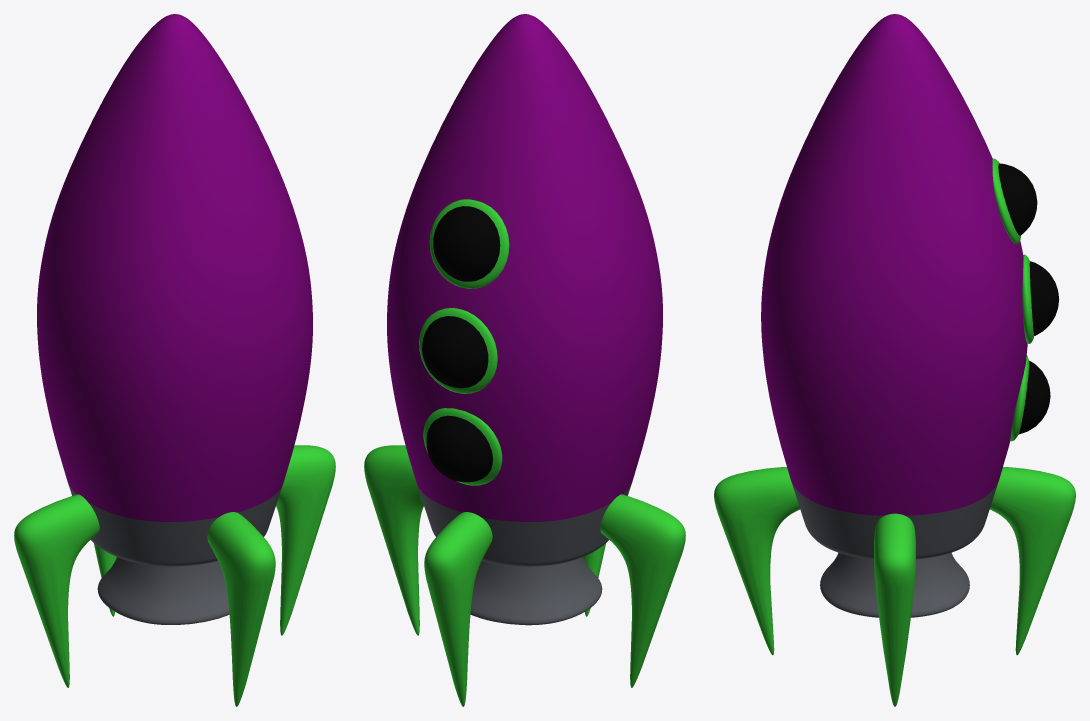
Rendered from gamev2rocketV3 2.fbx.
3 renders of one model, left to right at view 1: azimuth 30°, elevation 25°; view 2: azimuth 150°, elevation 25°; view 3: azimuth 270°, elevation 25°, orthographic.
Visible parts, largest first — view 1: Body, Legs; view 2: Body, Legs, Windows, Window Trim; view 3: Body, Legs, Windows, Window Trim.
Boxes of the visible parts, x1=… form: Body: x1=37, y1=14, x2=312, y2=624; Legs: x1=14, y1=445, x2=335, y2=706; Body: x1=387, y1=14, x2=662, y2=625; Legs: x1=364, y1=445, x2=685, y2=706; Windows: x1=422, y1=206, x2=500, y2=482; Window Trim: x1=419, y1=199, x2=509, y2=485; Body: x1=761, y1=14, x2=1027, y2=617; Legs: x1=714, y1=467, x2=1075, y2=706; Windows: x1=998, y1=163, x2=1059, y2=434; Window Trim: x1=992, y1=158, x2=1034, y2=441.
Size of the model in its own units: 727 by 1419 by 727.
